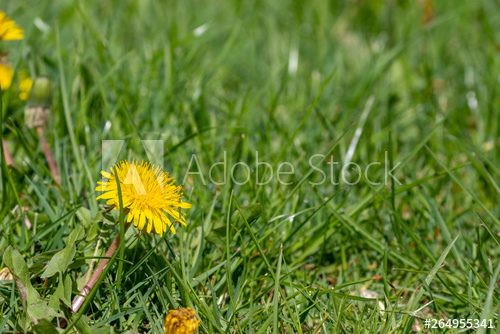dandelion: (96, 160, 189, 223)
